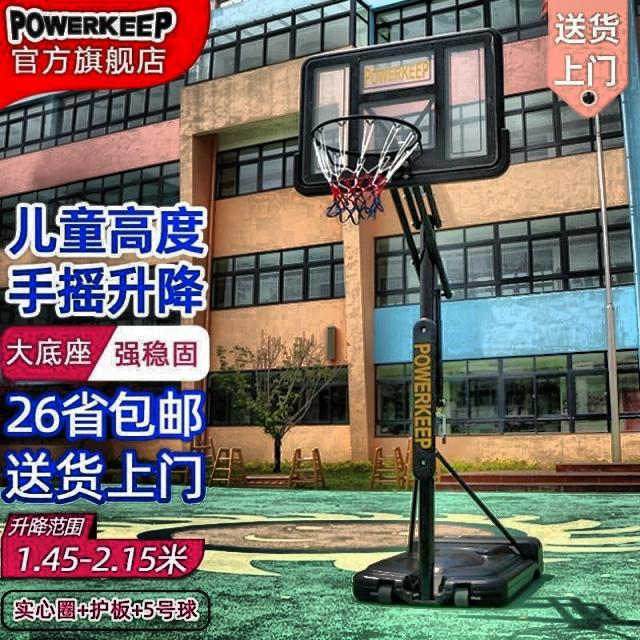rim: (309, 114, 422, 222)
